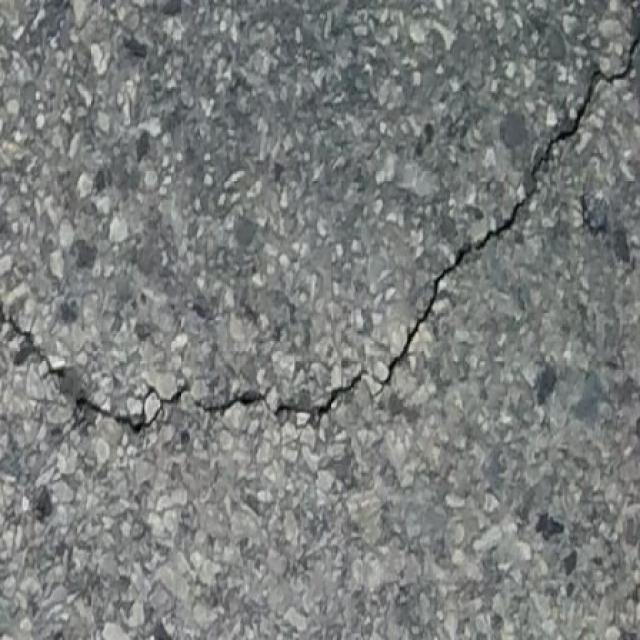Diagonal Crack: (2, 28, 640, 439)
